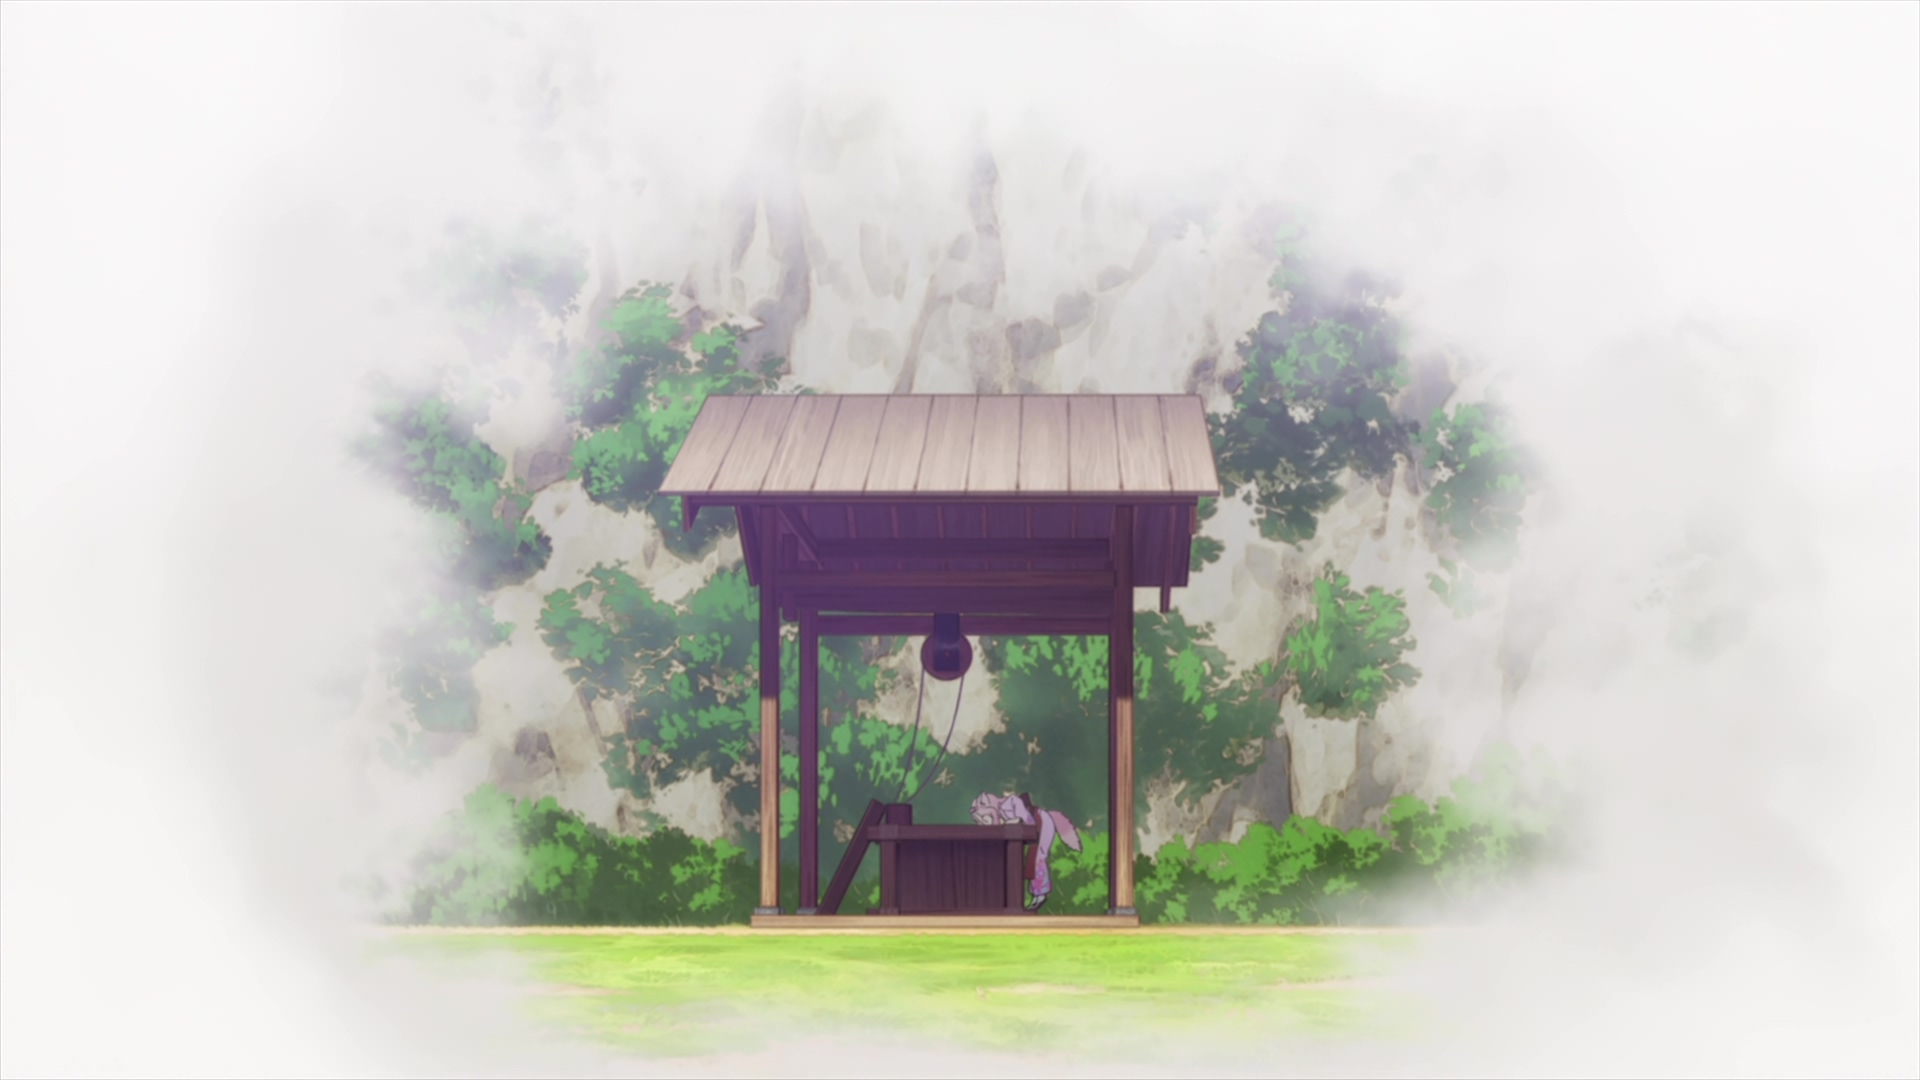莲: (975, 790, 1081, 909)
